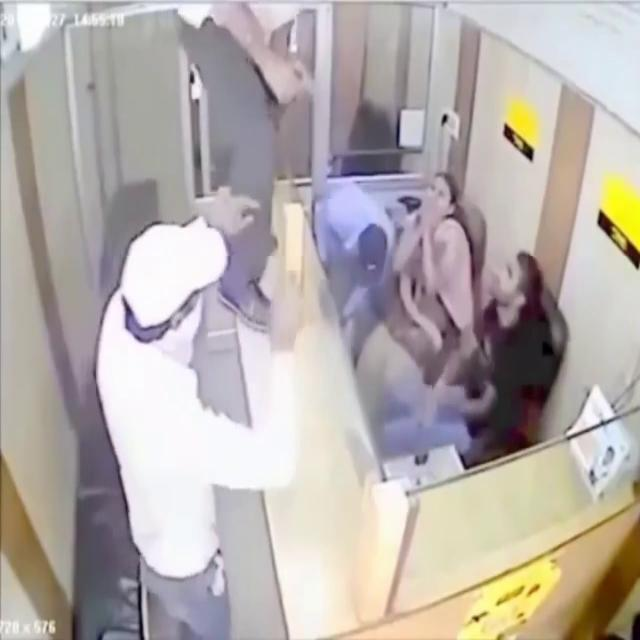weapon: (274, 55, 324, 113)
